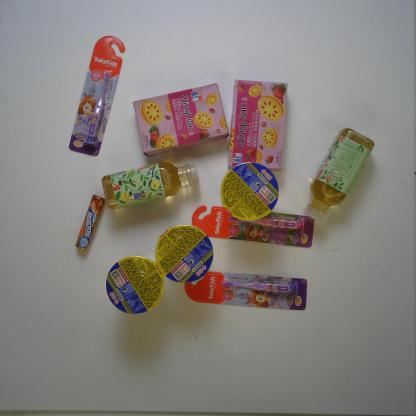Candy: (74, 192, 107, 252)
Dessert: (130, 81, 230, 158), (226, 76, 288, 172)
Drink: (302, 125, 376, 224), (99, 160, 200, 211)
Instant Noodles: (104, 253, 166, 316), (218, 160, 280, 222), (154, 224, 214, 284)
Personal Hygiene: (68, 34, 126, 157), (190, 204, 316, 249), (183, 270, 309, 312)
